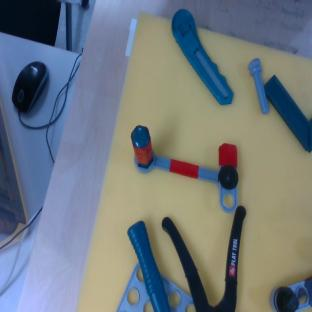non_pass: (272, 278, 312, 311)
pass: (119, 124, 249, 213)
